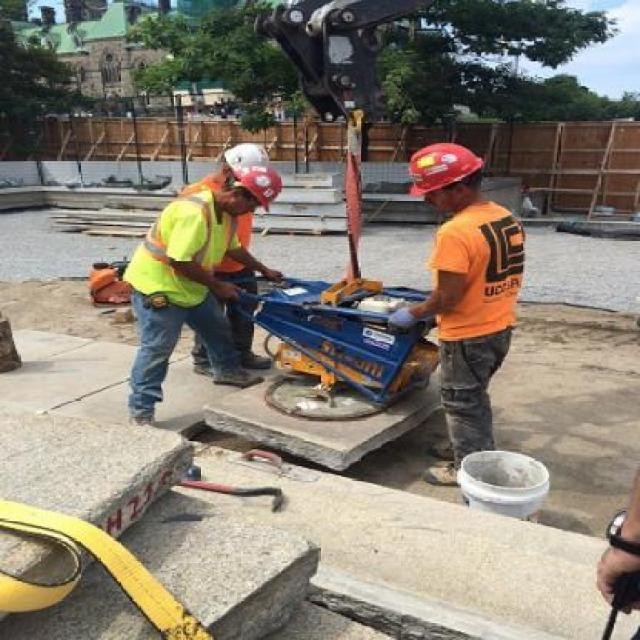helmet: (401, 145, 487, 196), (219, 165, 288, 215), (217, 145, 276, 167)
vest: (426, 216, 540, 343), (148, 195, 230, 299), (191, 180, 219, 197)
